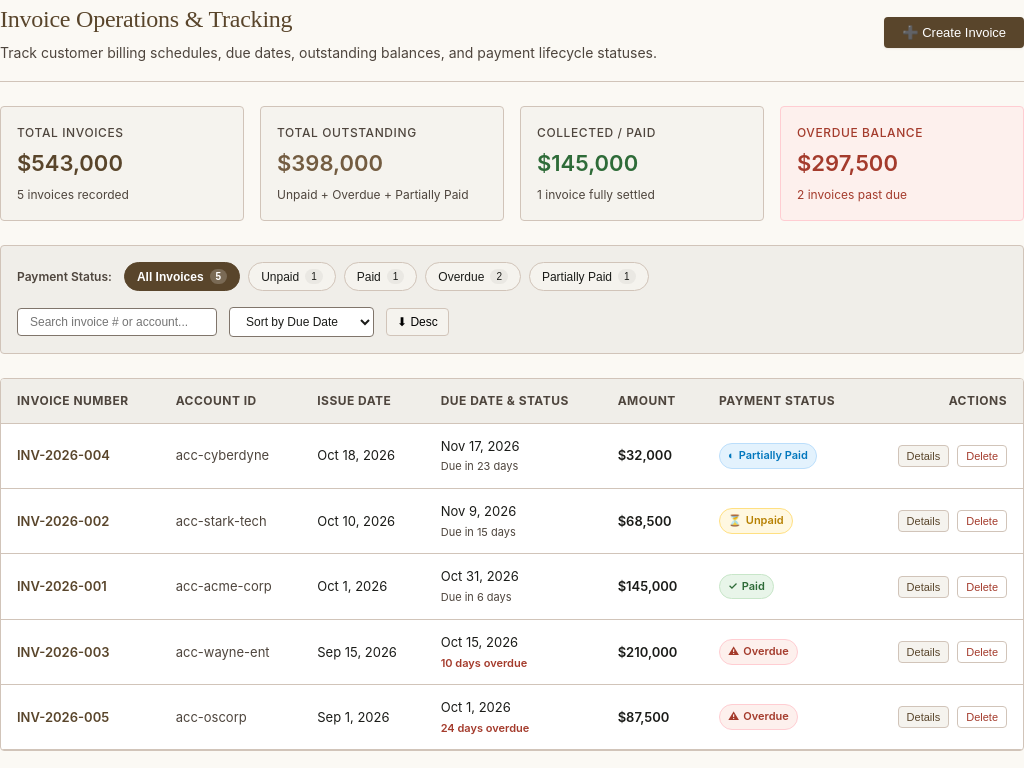
it: InvoiceListTable Component & Helper Utilities › InvoiceListTable Component Rendering & Interactions › opens invoice detail modal on row click or details button click
This screenshot has width=1024, height=768.
Click the button with test id "view-details-inv-101". click: (923, 586)
box: [898,576,949,598]
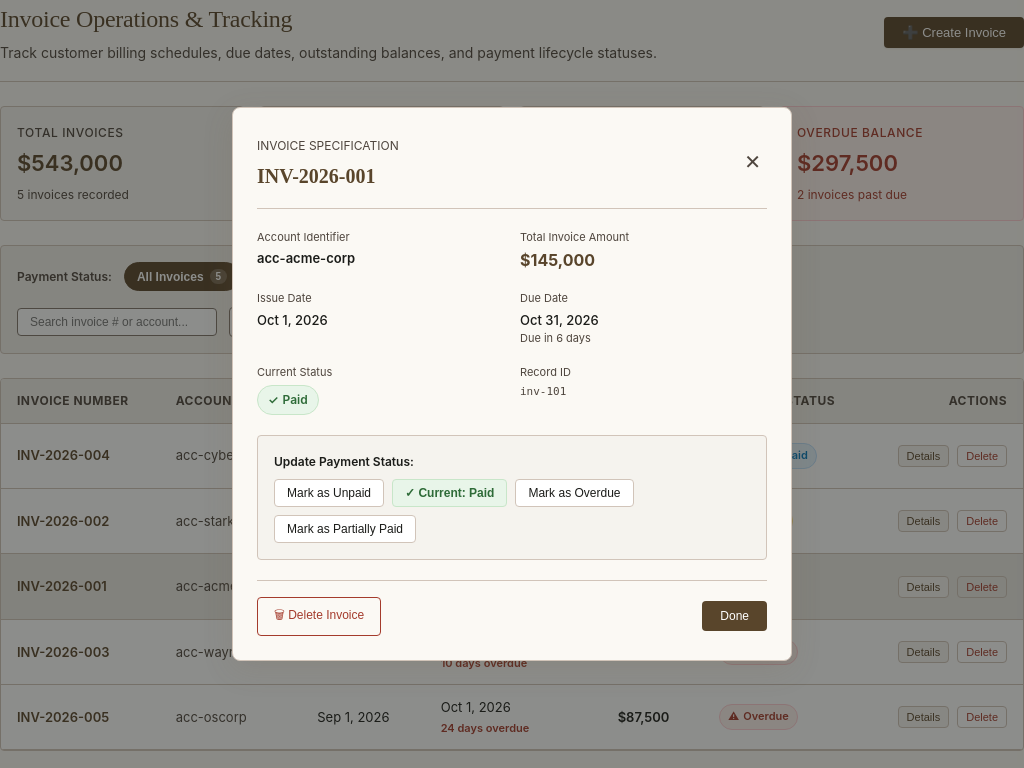
Expected: the element with test id "invoice-detail-modal" is shown
Expected: the text "Invoice Specification" is shown, [257,138,399,153]
